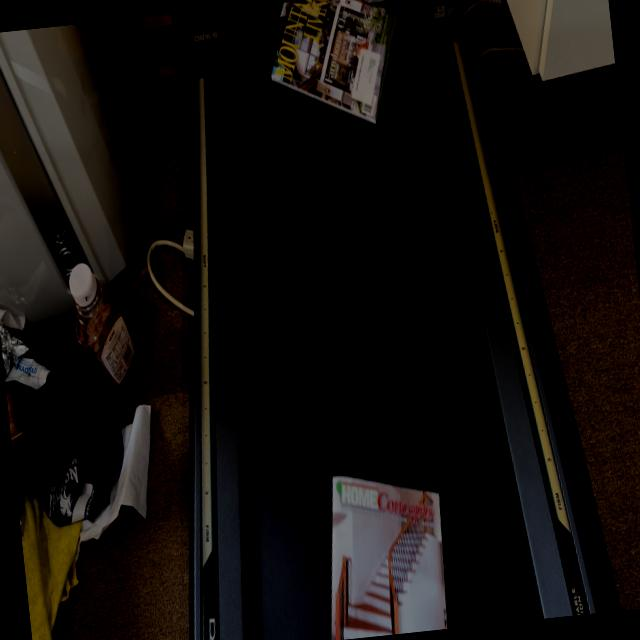Recycle: (310, 461, 453, 640), (261, 0, 407, 134)
